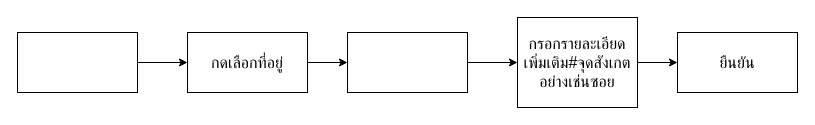
The diagram is 815 pixels wide and 125 high, and some of its shapes have lost their labels. Here are the shapes that lost their labels. From the top down, the centre of each, then its label:
pixel 77 62: เพิ่มที่อยู่
pixel 407 62: ปักมุดที่อยู่ของเรา
